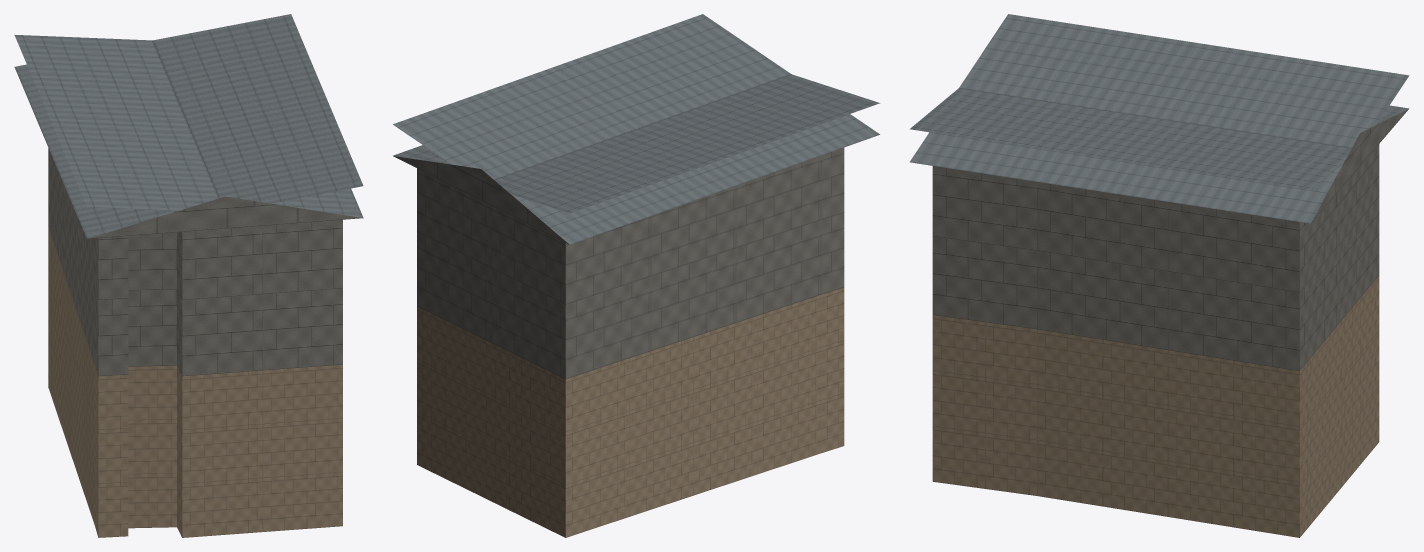
The model's file is bld_c22_46_397.gltf.
3 renders of one model, left to right at view 1: azimuth 30°, elevation 25°; view 2: azimuth 150°, elevation 25°; view 3: azimuth 270°, elevation 25°, orthographic. The views are drawn at different scales.
Visible parts, largest first — view 1: bld_c22_46_397; view 2: bld_c22_46_397; view 3: bld_c22_46_397.
Boxes of the visible parts, <box> form: bld_c22_46_397: <box>14,14,363,537</box>; bld_c22_46_397: <box>393,14,880,537</box>; bld_c22_46_397: <box>910,14,1409,537</box>.
Bounding box in the file's own units: 11.46 × 10.8 × 13.71.
4 materials, 4 textured.
